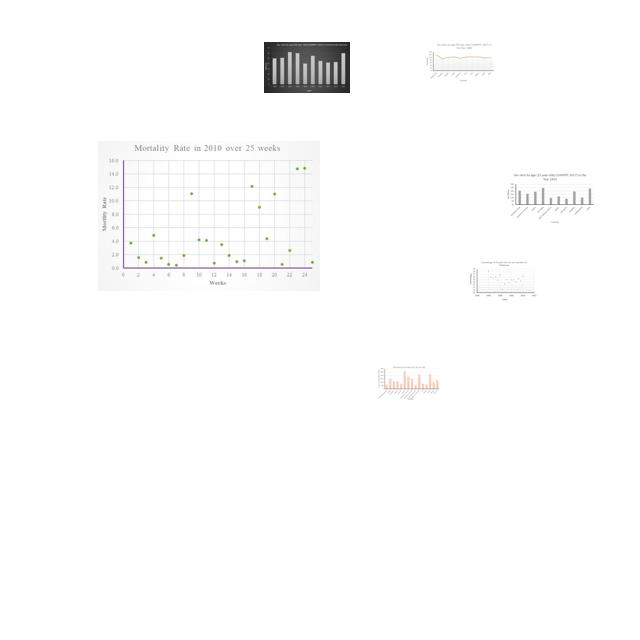Graph: (98, 141, 320, 291), (505, 172, 595, 225), (264, 42, 350, 93), (468, 260, 538, 302), (425, 43, 494, 82), (378, 366, 440, 400)
